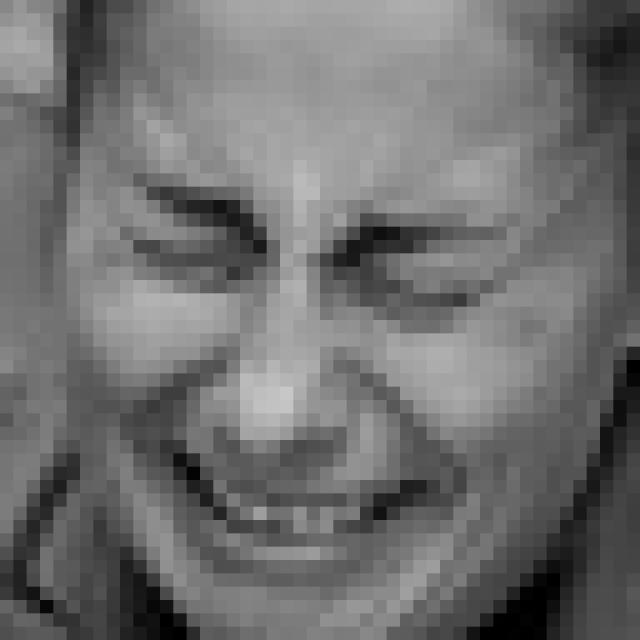disgust: (116, 175, 517, 590)
